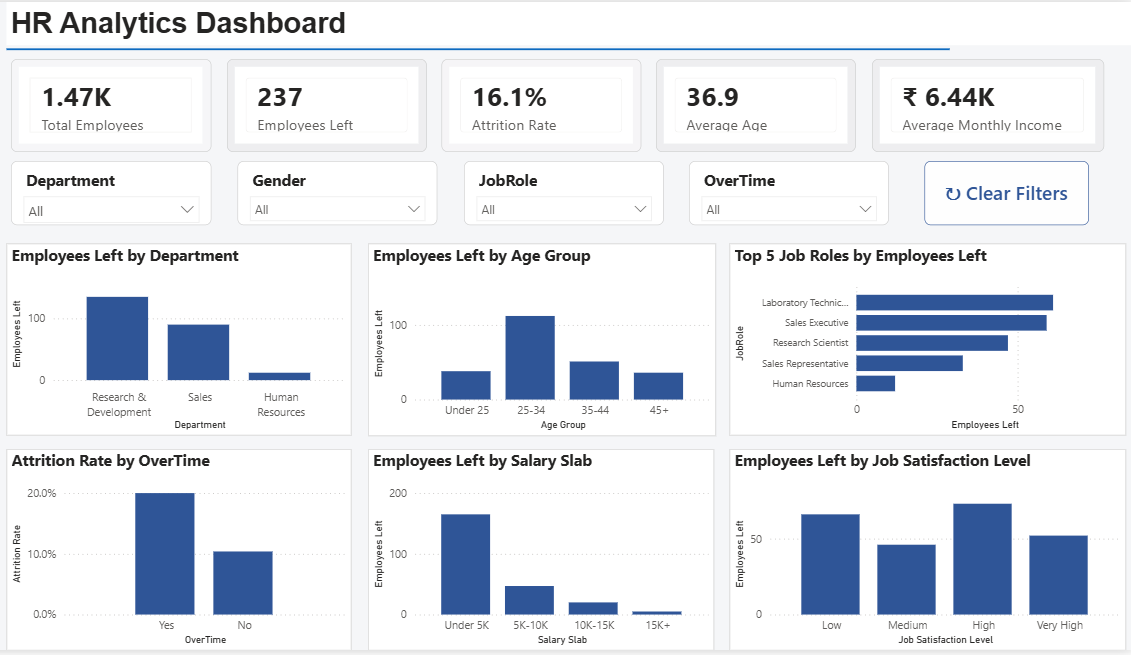

This screenshot's page, from the dashboard's own definition file:
{"tool":"powerbi","page":{"name":"Page 1","canvas":[1280,720],"ordinal":0},"visuals":[{"type":"cardVisual","fields":{"Data":["HR_Analytics_Messy_Dataset.Total Employees"]},"box":[33.4,63.6,222.7,103.4],"z":0},{"type":"cardVisual","fields":{"Data":["HR_Analytics_Messy_Dataset.Employees Left"]},"box":[272.9,63.6,222,103.4],"z":1000},{"type":"cardVisual","fields":{"Data":["HR_Analytics_Messy_Dataset.Attrition Rate"]},"box":[511.7,63.6,222,103.4],"z":2000},{"type":"cardVisual","fields":{"Data":["HR_Analytics_Messy_Dataset.Average Monthly Income"]},"box":[989.4,63.6,257.7,103.4],"z":3000},{"type":"cardVisual","fields":{"Data":["HR_Analytics_Messy_Dataset.Average Age"]},"box":[750.5,63.6,222,103.4],"z":4000},{"type":"clusteredColumnChart","fields":{"Category":["HR_Analytics_Messy_Dataset.Department"],"Y":["HR_Analytics_Messy_Dataset.Employees Left"]},"box":[28.3,268.3,383.3,213.1],"z":5000},{"type":"clusteredColumnChart","fields":{"Category":["HR_Analytics_Messy_Dataset.Age Group"],"Y":["HR_Analytics_Messy_Dataset.Employees Left"]},"box":[429.5,268.8,387,213.7],"z":6000},{"type":"clusteredBarChart","title":"Top 5 Job Roles by Employees Left","fields":{"Category":["HR_Analytics_Messy_Dataset.JobRole"],"Y":["HR_Analytics_Messy_Dataset.Employees Left"]},"box":[831.9,268.8,440.6,213.1],"z":7000},{"type":"clusteredColumnChart","fields":{"Y":["HR_Analytics_Messy_Dataset.Attrition Rate"],"Category":["HR_Analytics_Messy_Dataset.OverTime"]},"box":[28.6,496.3,383.3,224.3],"z":8000},{"type":"columnChart","fields":{"Category":["HR_Analytics_Messy_Dataset.Salary Slab"],"Y":["HR_Analytics_Messy_Dataset.Employees Left"]},"box":[429.5,496.3,384.9,224.3],"z":9000},{"type":"clusteredColumnChart","fields":{"Y":["HR_Analytics_Messy_Dataset.Employees Left"],"Category":["HR_Analytics_Messy_Dataset.Job Satisfaction Level"]},"box":[831.9,496.3,440.6,224.3],"z":10000},{"type":"slicer","fields":{"Values":["HR_Analytics_Messy_Dataset.Department"]},"box":[33.4,176.6,222.7,71.6],"z":11000},{"type":"slicer","fields":{"Values":["HR_Analytics_Messy_Dataset.JobRole"]},"box":[536.3,176.6,222,71],"z":12000},{"type":"slicer","fields":{"Values":["HR_Analytics_Messy_Dataset.OverTime"]},"box":[787.4,176.6,222,71],"z":13000},{"type":"slicer","fields":{"Values":["HR_Analytics_Messy_Dataset.Gender"]},"box":[285.2,176.6,222,71],"z":14000},{"type":"textbox","box":[28.6,0,1251.8,47.7],"z":15000},{"type":"shape","box":[28.6,35,1048.2,35],"z":16000},{"type":"actionButton","box":[1048.2,176.6,183,71.3],"z":16006}]}

Visuals, with their boxes in screenshot pixels (x1, y1, x2, y2), scaled from the page's 1280x720 canvas onto the 1131x655 screenshot:
cardVisual - HR_Analytics_Messy_Dataset.Total Employees: (30, 58, 226, 152)
cardVisual - HR_Analytics_Messy_Dataset.Employees Left: (241, 58, 437, 152)
cardVisual - HR_Analytics_Messy_Dataset.Attrition Rate: (452, 58, 648, 152)
cardVisual - HR_Analytics_Messy_Dataset.Average Monthly Income: (874, 58, 1102, 152)
cardVisual - HR_Analytics_Messy_Dataset.Average Age: (663, 58, 859, 152)
clusteredColumnChart - HR_Analytics_Messy_Dataset.Department x HR_Analytics_Messy_Dataset.Employees Left: (25, 244, 364, 438)
clusteredColumnChart - HR_Analytics_Messy_Dataset.Age Group x HR_Analytics_Messy_Dataset.Employees Left: (380, 245, 721, 439)
"Top 5 Job Roles by Employees Left" clusteredBarChart: (735, 245, 1124, 438)
clusteredColumnChart - HR_Analytics_Messy_Dataset.Attrition Rate x HR_Analytics_Messy_Dataset.OverTime: (25, 451, 364, 654)
columnChart - HR_Analytics_Messy_Dataset.Salary Slab x HR_Analytics_Messy_Dataset.Employees Left: (380, 451, 720, 654)
clusteredColumnChart - HR_Analytics_Messy_Dataset.Employees Left x HR_Analytics_Messy_Dataset.Job Satisfaction Level: (735, 451, 1124, 654)
slicer - HR_Analytics_Messy_Dataset.Department: (30, 161, 226, 226)
slicer - HR_Analytics_Messy_Dataset.JobRole: (474, 161, 670, 225)
slicer - HR_Analytics_Messy_Dataset.OverTime: (696, 161, 892, 225)
slicer - HR_Analytics_Messy_Dataset.Gender: (252, 161, 448, 225)
textbox: (25, 0, 1130, 43)
shape: (25, 32, 951, 64)
actionButton: (926, 161, 1088, 226)
